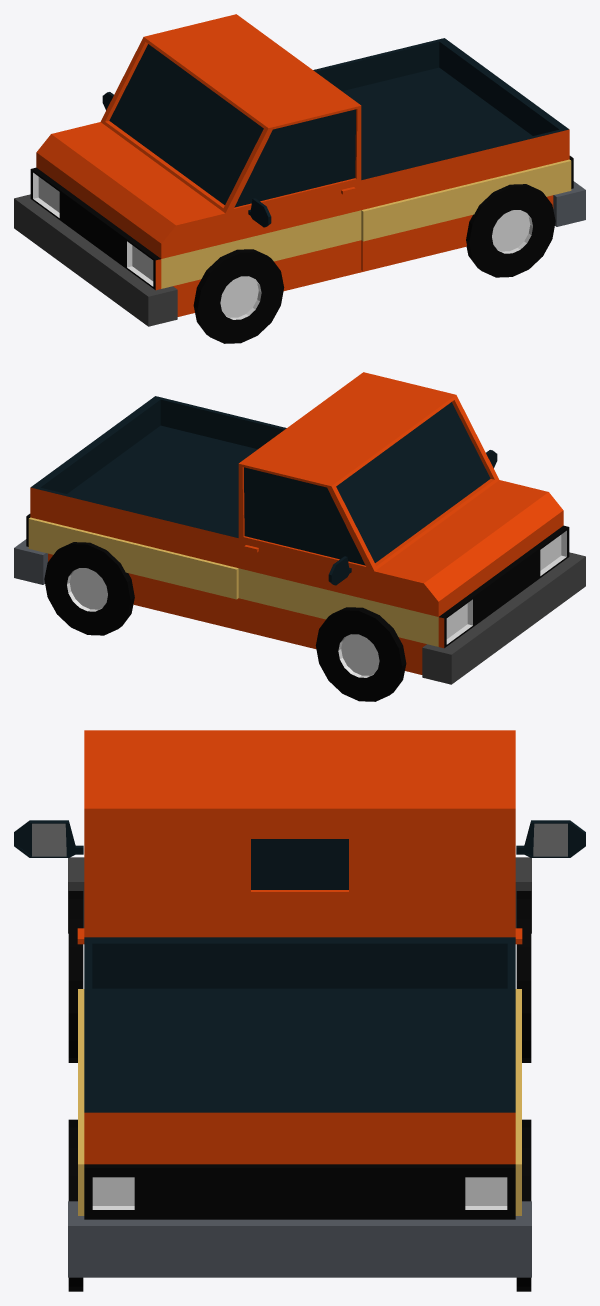
File: car.fbx
3 renders of one model, top to bottom at view 1: azimuth 30°, elevation 25°; view 2: azimuth 150°, elevation 25°; view 3: azimuth 270°, elevation 25°, orthographic. The views are drawn at different scales.
Parts seen in each view (by area): view 1: Куб, Куб.001, Цилиндр, Цилиндр.001, Куб.002; view 2: Куб, Куб.001, Цилиндр, Цилиндр.001, Куб.002; view 3: Куб, Куб.002, Цилиндр, Цилиндр.001, Куб.001.
Part boxes in pixels (left/top/right/bottom): Куб: left=30, top=14, right=573, bottom=316; Куб.001: left=14, top=194, right=177, bottom=326; Цилиндр: left=193, top=249, right=284, bottom=343; Цилиндр.001: left=466, top=184, right=555, bottom=277; Куб.002: left=553, top=181, right=585, bottom=226; Куб: left=26, top=372, right=569, bottom=674; Куб.001: left=422, top=552, right=585, bottom=684; Цилиндр: left=315, top=607, right=406, bottom=701; Цилиндр.001: left=44, top=542, right=134, bottom=635; Куб.002: left=14, top=539, right=47, bottom=584; Куб: left=14, top=730, right=585, bottom=1219; Куб.002: left=68, top=1201, right=531, bottom=1277; Цилиндр: left=68, top=891, right=531, bottom=1062; Цилиндр.001: left=68, top=1119, right=531, bottom=1291; Куб.001: left=68, top=857, right=531, bottom=933.
Bounding box in the file's own units: 676 × 301 × 444.
